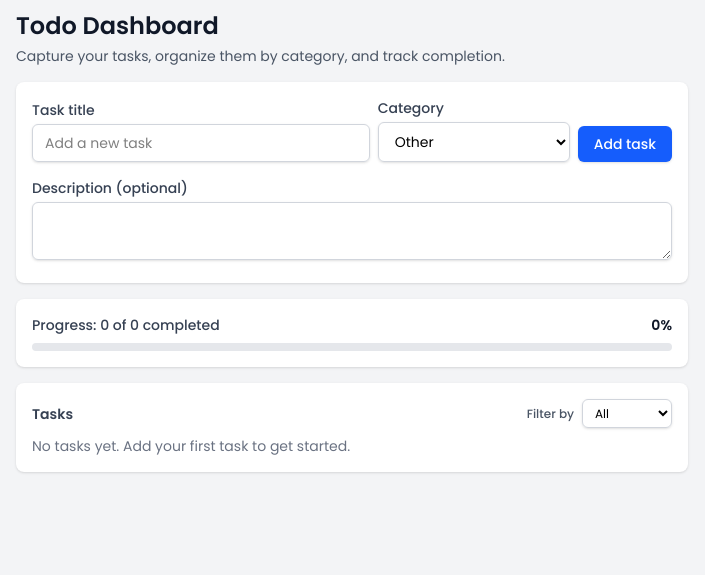
TodoDashboard progress › updates progress when a task is deleted
Type "Task 1" into the field labelled "Task title" at (201, 143), box [32,124,370,162]
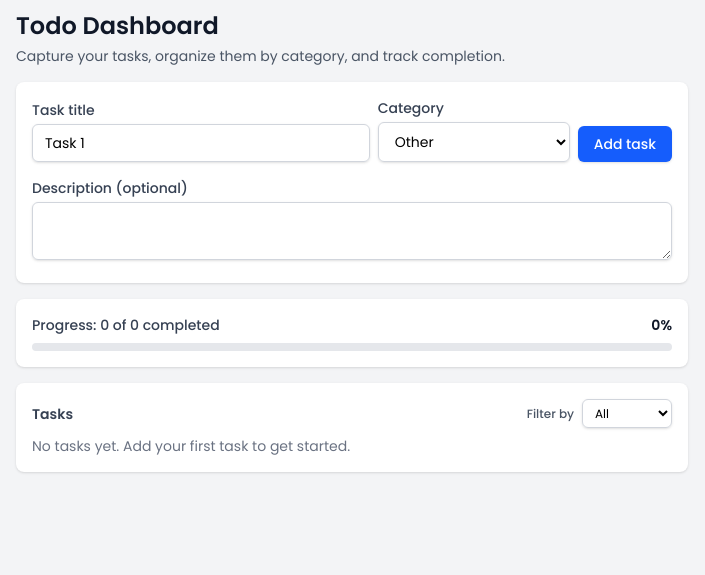
Click the button "Add task" at (625, 144), box [578,126,672,162]
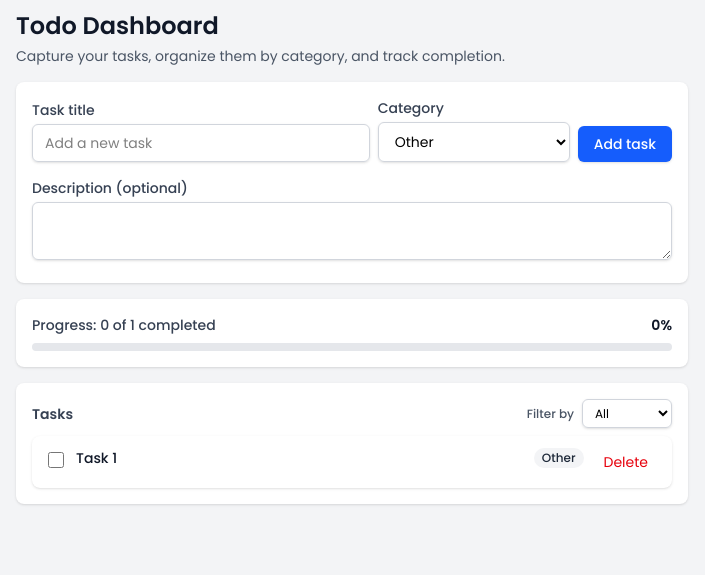
Type "Task 2" into the field labelled "Task title" at (201, 143), box [32,124,370,162]
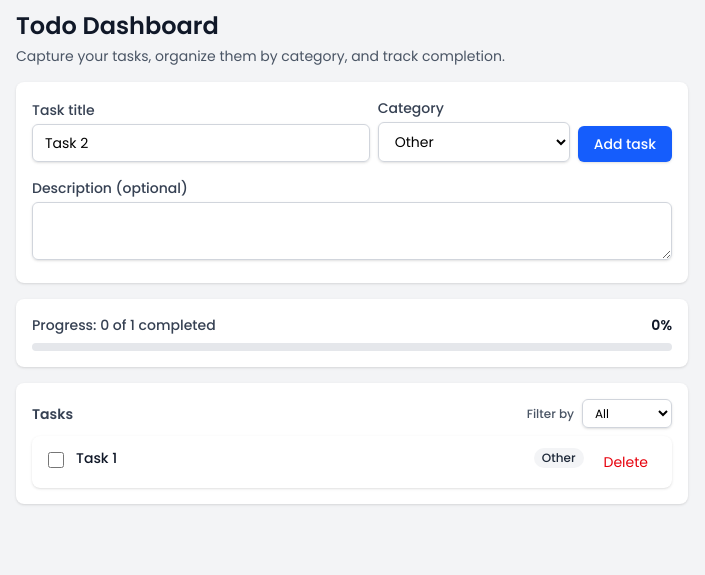
Click the button "Add task" at (625, 144), box [578,126,672,162]
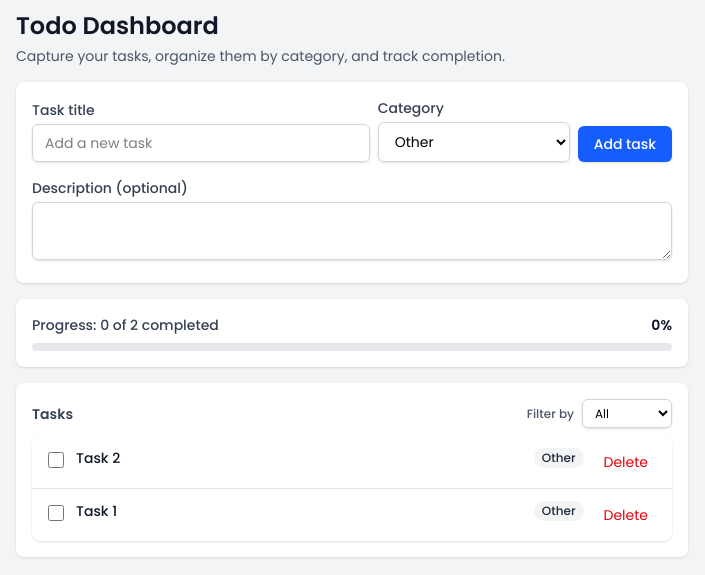
Expected: the text "Progress: 0 of 2 completed" is shown, [32,315,219,335]
Click the button with aria-label "delete task" at (626, 462), box [596,448,656,476]
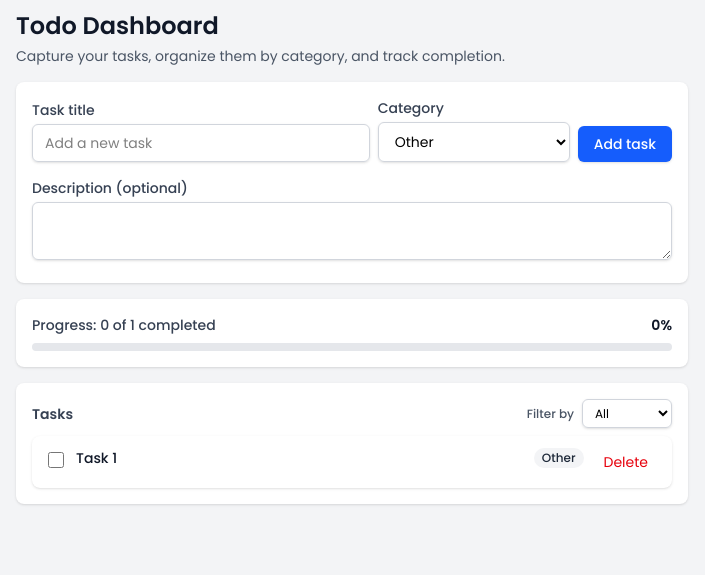
Expected: the text "Progress: 0 of 1 completed" is shown, [32,315,216,335]
